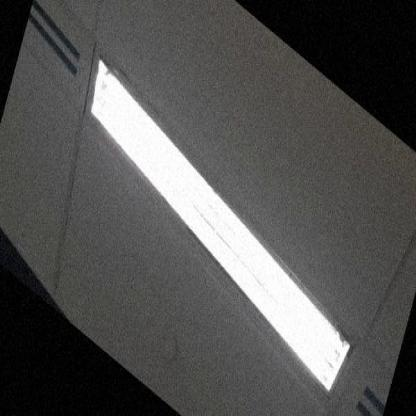light_on: (52, 24, 383, 414)
